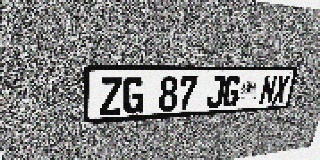7: (177, 76, 198, 110)
8: (158, 76, 179, 112)
G: (123, 77, 144, 114), (221, 75, 242, 107)
J: (206, 76, 226, 108)
N: (258, 75, 278, 105)
X: (272, 75, 291, 104)
Z: (100, 77, 122, 116)
